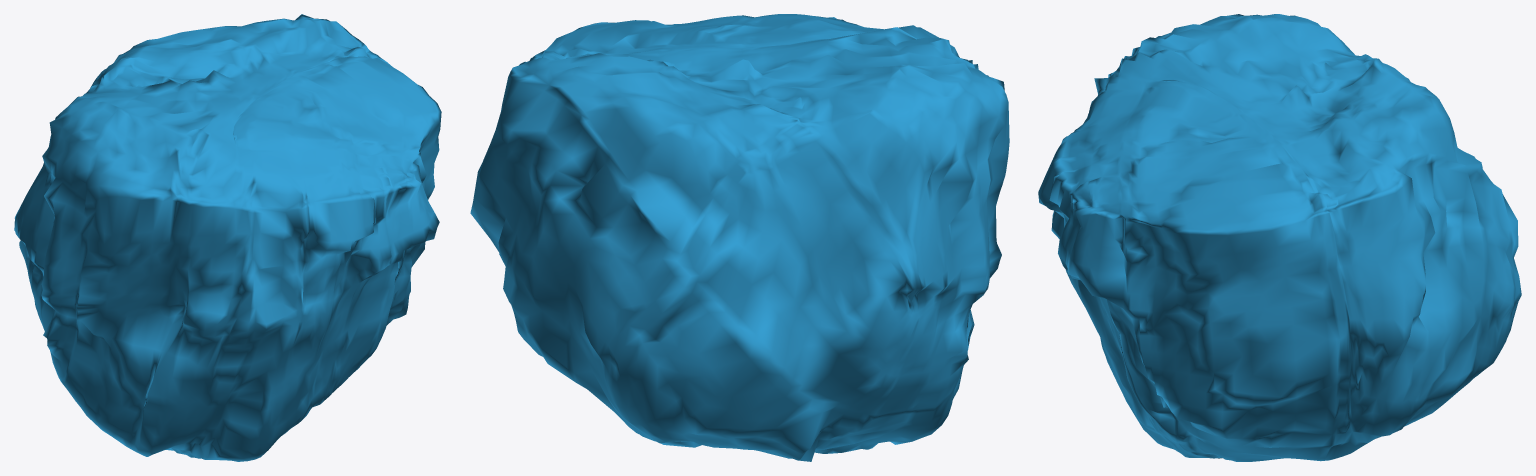
The model's file is Rock_04_Lod0.fbx.
The picture shows the model from 3 angles, left to right: view 1: azimuth 30°, elevation 25°; view 2: azimuth 150°, elevation 25°; view 3: azimuth 270°, elevation 25°; orthographic projection. The views are drawn at different scales.
Visible parts, largest first — view 1: Rock_04_Lod0; view 2: Rock_04_Lod0; view 3: Rock_04_Lod0.
Boxes of the visible parts, bbox=[...] form: Rock_04_Lod0: bbox=[14, 14, 441, 461]; Rock_04_Lod0: bbox=[470, 14, 1009, 461]; Rock_04_Lod0: bbox=[1038, 14, 1521, 461].
Bounding box in the file's own units: 3847 × 3359 × 3884.
